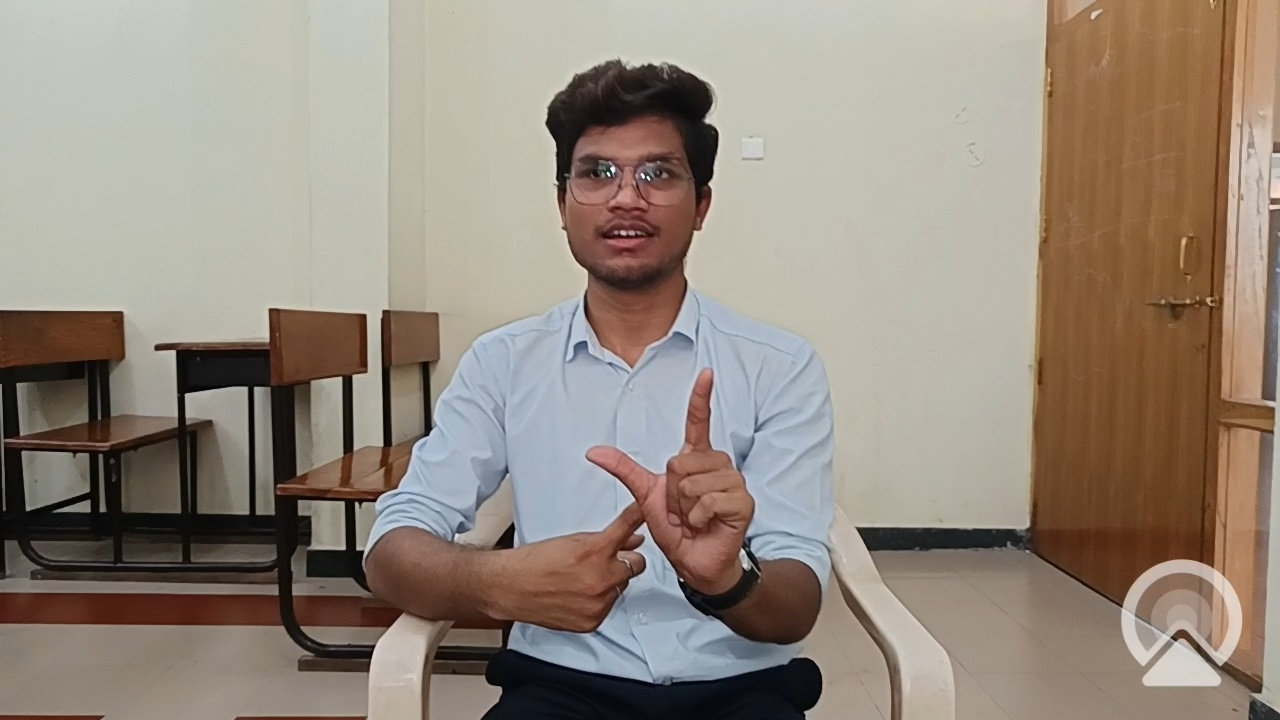Y: (449, 341, 809, 655)
